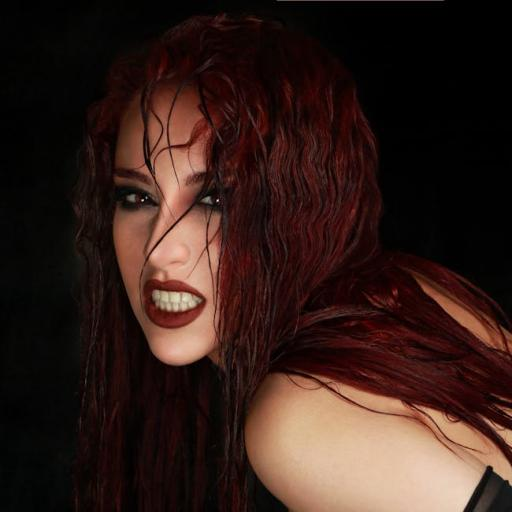lipstick: (143, 280, 205, 328)
